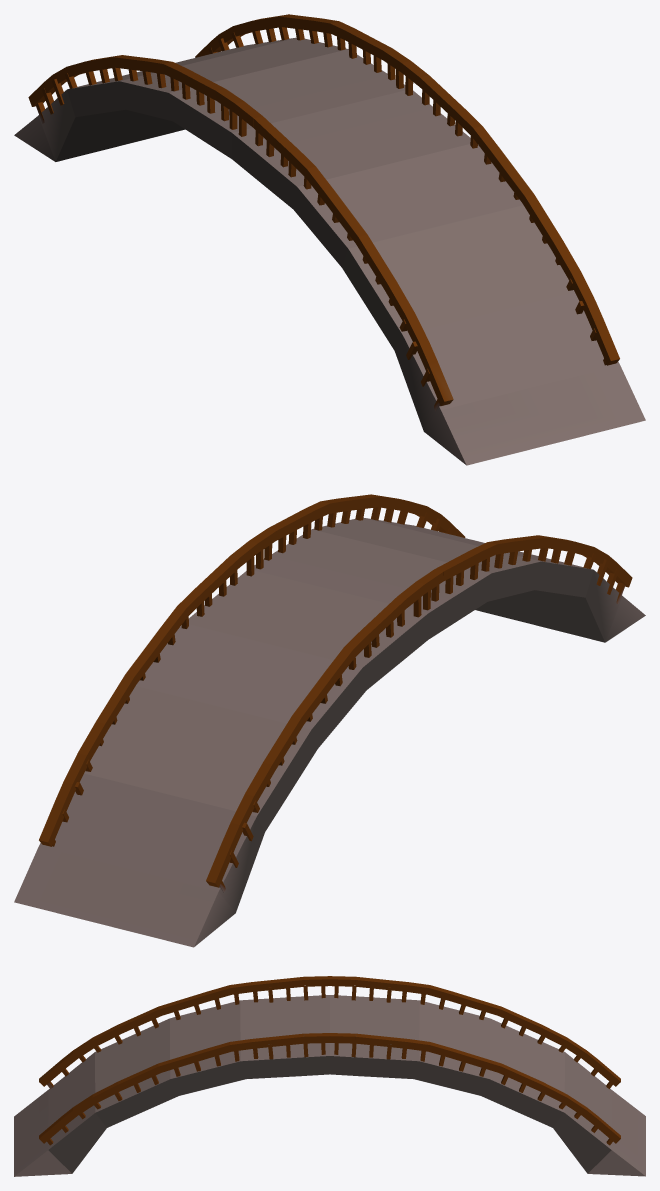
Rendered from Bridge.fbx.
The picture shows the model from 3 angles, top to bottom: view 1: azimuth 30°, elevation 25°; view 2: azimuth 150°, elevation 25°; view 3: azimuth 270°, elevation 25°; orthographic projection. The views are drawn at different scales.
Parts seen in each view (by area): view 1: Cube; view 2: Cube; view 3: Cube.
Part boxes in pixels (bbox=[...]): Cube: bbox=[14, 14, 645, 465]; Cube: bbox=[14, 494, 645, 947]; Cube: bbox=[14, 976, 645, 1176].
Bounding box in the file's own units: 4.97 × 5 × 20.67.
